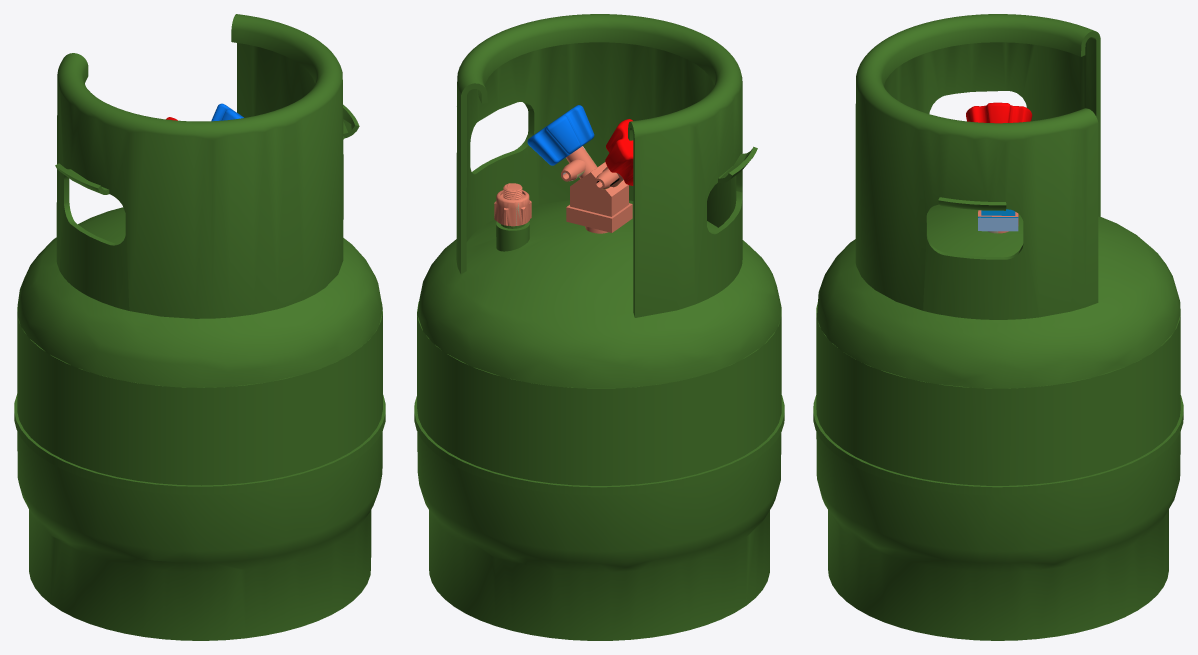
The model's file is Green tank.fbx.
3 views of the same model, side by side, from view 1: azimuth 30°, elevation 25°; view 2: azimuth 150°, elevation 25°; view 3: azimuth 270°, elevation 25° (orthographic).
Parts seen in each view (by area): view 1: Recovery Unit V3_B001; view 2: Recovery Unit V3_B001, Handl Anboba001; view 3: Recovery Unit V3_B001.
Part boxes in pixels (bbox=[...]): Recovery Unit V3_B001: bbox=[14, 14, 385, 640]; Recovery Unit V3_B001: bbox=[414, 14, 784, 640]; Handl Anboba001: bbox=[527, 105, 594, 165]; Recovery Unit V3_B001: bbox=[813, 14, 1183, 640].
Size of the model in its own units: 18.47 by 27.43 by 18.45.
2 materials, 1 textured.
